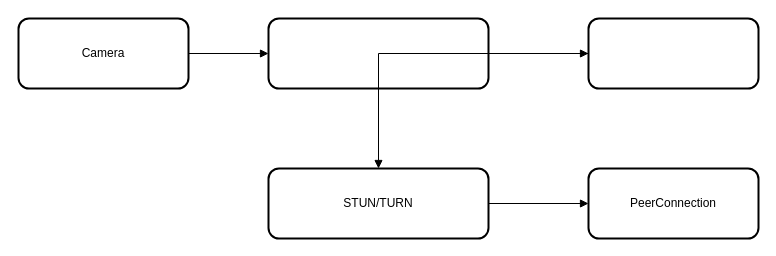
Some shapes in this 776 by 256 pixel diagram are drawn without their labels. Here are the shapes that lost their labels. From the top down, the centre of each, then its label:
the point at 378,53: Broadcast
the point at 673,53: Viewer
